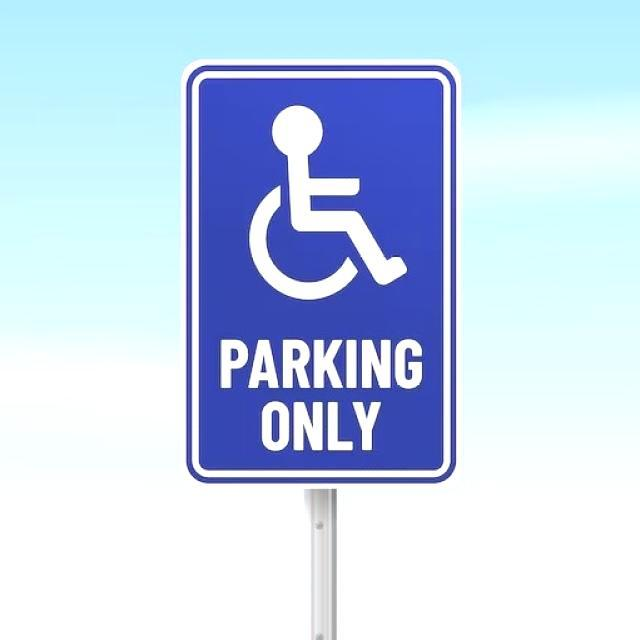symbol_of_access: (183, 59, 458, 484)
